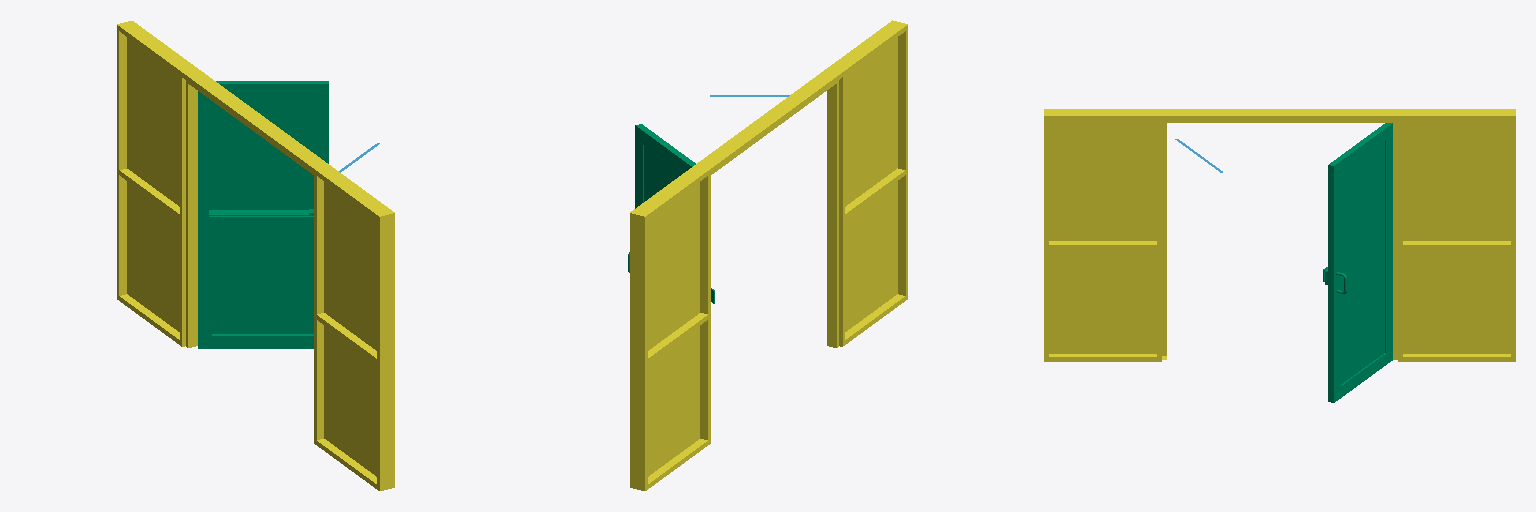
URDF robot description (partnet_6e9b896e1f9538e52b383b03c7efa7a):
<?xml version="1.0" ?>
<robot name="partnet_6e9b896e1f9538e52b383b03c7efa7a">
	<link name="base"/>
	<link name="link_0">
		<!-- <visual name="fixed_part-44">
			<origin xyz="-0.3955696449788885 -0.49927400000000066 -0.09266094707364786"/>
			<geometry>
				<mesh filename="textured_objs/original-1.obj"/>
			</geometry>
		</visual> -->
		<!-- <visual name="glass-50">
			<origin xyz="-0.3955696449788885 -0.49927400000000066 -0.09266094707364786"/>
			<geometry>
				<mesh filename="textured_objs/original-12.obj"/>
			</geometry>
		</visual> -->
		<!-- <visual name="surface_board-53">
			<origin xyz="-0.3955696449788885 -0.49927400000000066 -0.09266094707364786"/>
			<geometry>
				<mesh filename="textured_objs/original-14.obj"/>
			</geometry>
		</visual> -->
		<!-- <visual name="surface_board-53">
			<origin xyz="-0.3955696449788885 -0.49927400000000066 -0.09266094707364786"/>
			<geometry>
				<mesh filename="textured_objs/new-10.obj"/>
			</geometry>
		</visual> -->
		<!-- <visual name="surface_board-53">
			<origin xyz="-0.3955696449788885 -0.49927400000000066 -0.09266094707364786"/>
			<geometry>
				<mesh filename="textured_objs/original-15.obj"/>
			</geometry>
		</visual> -->
		<visual name="surface_board-53">
			<origin xyz="-0.3955696449788885 -0.49927400000000066 -0.09266094707364786"/>
			<geometry>
				<mesh filename="textured_objs/original-13.obj"/>
			</geometry>
		</visual>
		<!-- <visual name="surface_board-53">
			<origin xyz="-0.3955696449788885 -0.49927400000000066 -0.09266094707364786"/>
			<geometry>
				<mesh filename="textured_objs/original-6.obj"/>
			</geometry>
		</visual> -->
		<!-- <visual name="surface_board-53">
			<origin xyz="-0.3955696449788885 -0.49927400000000066 -0.09266094707364786"/>
			<geometry>
				<mesh filename="textured_objs/original-11.obj"/>
			</geometry>
		</visual> -->
		<!-- <visual name="horizontal_bar-56">
			<origin xyz="-0.3955696449788885 -0.49927400000000066 -0.09266094707364786"/>
			<geometry>
				<mesh filename="textured_objs/original-33.obj"/>
			</geometry>
		</visual> -->
		<!-- <visual name="horizontal_bar-56">
			<origin xyz="-0.3955696449788885 -0.49927400000000066 -0.09266094707364786"/>
			<geometry>
				<mesh filename="textured_objs/original-34.obj"/>
			</geometry>
		</visual> -->
		<!-- <visual name="horizontal_bar-56">
			<origin xyz="-0.3955696449788885 -0.49927400000000066 -0.09266094707364786"/>
			<geometry>
				<mesh filename="textured_objs/original-36.obj"/>
			</geometry>
		</visual> -->
		<!-- <collision>
			<origin xyz="-0.3955696449788885 -0.49927400000000066 -0.09266094707364786"/>
			<geometry>
				<mesh filename="textured_objs/original-1.obj"/>
			</geometry>
		</collision> -->
		<!-- <collision>
			<origin xyz="-0.3955696449788885 -0.49927400000000066 -0.09266094707364786"/>
			<geometry>
				<mesh filename="textured_objs/original-12.obj"/>
			</geometry>
		</collision> -->
		<!-- <collision>
			<origin xyz="-0.3955696449788885 -0.49927400000000066 -0.09266094707364786"/>
			<geometry>
				<mesh filename="textured_objs/original-14.obj"/>
			</geometry>
		</collision> -->
		<!-- <collision>
			<origin xyz="-0.3955696449788885 -0.49927400000000066 -0.09266094707364786"/>
			<geometry>
				<mesh filename="textured_objs/new-10.obj"/>
			</geometry>
		</collision> -->
		<!-- <collision>
			<origin xyz="-0.3955696449788885 -0.49927400000000066 -0.09266094707364786"/>
			<geometry>
				<mesh filename="textured_objs/original-15.obj"/>
			</geometry>
		</collision> -->
		<collision>
			<origin xyz="-0.3955696449788885 -0.49927400000000066 -0.09266094707364786"/>
			<geometry>
				<mesh filename="textured_objs/original-13.obj"/>
			</geometry>
		</collision>
		<!-- <collision>
			<origin xyz="-0.3955696449788885 -0.49927400000000066 -0.09266094707364786"/>
			<geometry>
				<mesh filename="textured_objs/original-6.obj"/>
			</geometry>
		</collision> -->
		<!-- <collision>
			<origin xyz="-0.3955696449788885 -0.49927400000000066 -0.09266094707364786"/>
			<geometry>
				<mesh filename="textured_objs/original-11.obj"/>
			</geometry>
		</collision> -->
		<!-- <collision>
			<origin xyz="-0.3955696449788885 -0.49927400000000066 -0.09266094707364786"/>
			<geometry>
				<mesh filename="textured_objs/original-33.obj"/>
			</geometry>
		</collision> -->
		<!-- <collision>
			<origin xyz="-0.3955696449788885 -0.49927400000000066 -0.09266094707364786"/>
			<geometry>
				<mesh filename="textured_objs/original-34.obj"/>
			</geometry>
		</collision> -->
		<!-- <collision>
			<origin xyz="-0.3955696449788885 -0.49927400000000066 -0.09266094707364786"/>
			<geometry>
				<mesh filename="textured_objs/original-36.obj"/>
			</geometry>
		</collision> -->
	</link>
	<joint name="joint_0" type="fixed">
		<origin xyz="0.3955696449788885 0.49927400000000066 0.09266094707364786"/>
		<axis xyz="0 -1 0"/>
		<child link="link_0"/>
		<parent link="link_2"/>
		<limit lower="-1.0471975511965976" upper="0.5235987755982988"/>
	</joint>
	<link name="link_1">
		<visual name="fixed_part-47">
			<origin xyz="0.39470414551830907 -0.4992740000000002 -0.0850970987031715"/>
			<geometry>
				<mesh filename="textured_objs/original-2.obj"/>
			</geometry>
		</visual>
		<visual name="glass-51">
			<origin xyz="0.39470414551830907 -0.4992740000000002 -0.0850970987031715"/>
			<geometry>
				<mesh filename="textured_objs/original-9.obj"/>
			</geometry>
		</visual>
		<visual name="surface_board-52">
			<origin xyz="0.39470414551830907 -0.4992740000000002 -0.0850970987031715"/>
			<geometry>
				<mesh filename="textured_objs/original-5.obj"/>
			</geometry>
		</visual>
		<visual name="surface_board-52">
			<origin xyz="0.39470414551830907 -0.4992740000000002 -0.0850970987031715"/>
			<geometry>
				<mesh filename="textured_objs/original-18.obj"/>
			</geometry>
		</visual>
		<visual name="surface_board-52">
			<origin xyz="0.39470414551830907 -0.4992740000000002 -0.0850970987031715"/>
			<geometry>
				<mesh filename="textured_objs/original-7.obj"/>
			</geometry>
		</visual>
		<visual name="horizontal_bar-59">
			<origin xyz="0.39470414551830907 -0.4992740000000002 -0.0850970987031715"/>
			<geometry>
				<mesh filename="textured_objs/original-28.obj"/>
			</geometry>
		</visual>
		<visual name="horizontal_bar-59">
			<origin xyz="0.39470414551830907 -0.4992740000000002 -0.0850970987031715"/>
			<geometry>
				<mesh filename="textured_objs/original-31.obj"/>
			</geometry>
		</visual>
		<collision>
			<origin xyz="0.39470414551830907 -0.4992740000000002 -0.0850970987031715"/>
			<geometry>
				<mesh filename="textured_objs/original-2-part-0.obj"/>
			</geometry>
		</collision>
		<collision>
			<origin xyz="0.39470414551830907 -0.4992740000000002 -0.0850970987031715"/>
			<geometry>
				<mesh filename="textured_objs/original-2-part-1.obj"/>
			</geometry>
		</collision>
		<collision>
			<origin xyz="0.39470414551830907 -0.4992740000000002 -0.0850970987031715"/>
			<geometry>
				<mesh filename="textured_objs/original-2-part-2.obj"/>
			</geometry>
		</collision>
		<collision>
			<origin xyz="0.39470414551830907 -0.4992740000000002 -0.0850970987031715"/>
			<geometry>
				<mesh filename="textured_objs/original-2-part-3.obj"/>
			</geometry>
		</collision>
		<collision>
			<origin xyz="0.39470414551830907 -0.4992740000000002 -0.0850970987031715"/>
			<geometry>
				<mesh filename="textured_objs/original-9.obj"/>
			</geometry>
		</collision>
		<collision>
			<origin xyz="0.39470414551830907 -0.4992740000000002 -0.0850970987031715"/>
			<geometry>
				<mesh filename="textured_objs/original-5.obj"/>
			</geometry>
		</collision>
		<collision>
			<origin xyz="0.39470414551830907 -0.4992740000000002 -0.0850970987031715"/>
			<geometry>
				<mesh filename="textured_objs/original-18.obj"/>
			</geometry>
		</collision>
		<collision>
			<origin xyz="0.39470414551830907 -0.4992740000000002 -0.0850970987031715"/>
			<geometry>
				<mesh filename="textured_objs/original-7.obj"/>
			</geometry>
		</collision>
		<collision>
			<origin xyz="0.39470414551830907 -0.4992740000000002 -0.0850970987031715"/>
			<geometry>
				<mesh filename="textured_objs/original-28.obj"/>
			</geometry>
		</collision>
		<collision>
			<origin xyz="0.39470414551830907 -0.4992740000000002 -0.0850970987031715"/>
			<geometry>
				<mesh filename="textured_objs/original-31.obj"/>
			</geometry>
		</collision>
	</link>
	<joint name="joint_1" type="revolute">
		<origin xyz="-0.39470414551830907 0.4992740000000002 0.0850970987031715"/>
		<axis xyz="0 1 0"/>
		<child link="link_1"/>
		<parent link="link_2"/>
		<limit lower="-1.0471975511965976" upper="0.5235987755982988"/>
	</joint>
	<link name="link_2">
		<visual name="glass-54">
			<origin xyz="0 0 0"/>
			<geometry>
				<mesh filename="textured_objs/original-25.obj"/>
			</geometry>
		</visual>
		<visual name="glass-55">
			<origin xyz="0 0 0"/>
			<geometry>
				<mesh filename="textured_objs/original-26.obj"/>
			</geometry>
		</visual>
		<visual name="outside_frame-40">
			<origin xyz="0 0 0"/>
			<geometry>
				<mesh filename="textured_objs/new-11.obj"/>
			</geometry>
		</visual>
		<visual name="outside_frame-40">
			<origin xyz="0 0 0"/>
			<geometry>
				<mesh filename="textured_objs/new-5.obj"/>
			</geometry>
		</visual>
		<visual name="outside_frame-40">
			<origin xyz="0 0 0"/>
			<geometry>
				<mesh filename="textured_objs/new-9.obj"/>
			</geometry>
		</visual>
		<visual name="outside_frame-40">
			<origin xyz="0 0 0"/>
			<geometry>
				<mesh filename="textured_objs/new-3.obj"/>
			</geometry>
		</visual>
		<visual name="horizontal_bar-57">
			<origin xyz="0 0 0"/>
			<geometry>
				<mesh filename="textured_objs/new-2.obj"/>
			</geometry>
		</visual>
		<visual name="horizontal_bar-57">
			<origin xyz="0 0 0"/>
			<geometry>
				<mesh filename="textured_objs/new-0.obj"/>
			</geometry>
		</visual>
		<visual name="horizontal_bar-58">
			<origin xyz="0 0 0"/>
			<geometry>
				<mesh filename="textured_objs/new-4.obj"/>
			</geometry>
		</visual>
		<visual name="horizontal_bar-58">
			<origin xyz="0 0 0"/>
			<geometry>
				<mesh filename="textured_objs/new-6.obj"/>
			</geometry>
		</visual>
		<visual name="horizontal_bar-58">
			<origin xyz="0 0 0"/>
			<geometry>
				<mesh filename="textured_objs/new-8.obj"/>
			</geometry>
		</visual>
		<collision>
			<origin xyz="0 0 0"/>
			<geometry>
				<mesh filename="textured_objs/original-25.obj"/>
			</geometry>
		</collision>
		<collision>
			<origin xyz="0 0 0"/>
			<geometry>
				<mesh filename="textured_objs/original-26.obj"/>
			</geometry>
		</collision>
		<collision>
			<origin xyz="0 0 0"/>
			<geometry>
				<mesh filename="textured_objs/new-11-part-0.obj"/>
			</geometry>
		</collision>
		<collision>
			<origin xyz="0 0 0"/>
			<geometry>
				<mesh filename="textured_objs/new-11-part-1.obj"/>
			</geometry>
		</collision>
		<collision>
			<origin xyz="0 0 0"/>
			<geometry>
				<mesh filename="textured_objs/new-11-part-2.obj"/>
			</geometry>
		</collision>
		<collision>
			<origin xyz="0 0 0"/>
			<geometry>
				<mesh filename="textured_objs/new-11-part-3.obj"/>
			</geometry>
		</collision>
		<collision>
			<origin xyz="0 0 0"/>
			<geometry>
				<mesh filename="textured_objs/new-11-part-4.obj"/>
			</geometry>
		</collision>
		<collision>
			<origin xyz="0 0 0"/>
			<geometry>
				<mesh filename="textured_objs/new-11-part-5.obj"/>
			</geometry>
		</collision>
		<collision>
			<origin xyz="0 0 0"/>
			<geometry>
				<mesh filename="textured_objs/new-11-part-6.obj"/>
			</geometry>
		</collision>
		<collision>
			<origin xyz="0 0 0"/>
			<geometry>
				<mesh filename="textured_objs/new-11-part-7.obj"/>
			</geometry>
		</collision>
		<collision>
			<origin xyz="0 0 0"/>
			<geometry>
				<mesh filename="textured_objs/new-11-part-8.obj"/>
			</geometry>
		</collision>
		<collision>
			<origin xyz="0 0 0"/>
			<geometry>
				<mesh filename="textured_objs/new-11-part-9.obj"/>
			</geometry>
		</collision>
		<collision>
			<origin xyz="0 0 0"/>
			<geometry>
				<mesh filename="textured_objs/new-11-part-10.obj"/>
			</geometry>
		</collision>
		<collision>
			<origin xyz="0 0 0"/>
			<geometry>
				<mesh filename="textured_objs/new-11-part-11.obj"/>
			</geometry>
		</collision>
		<collision>
			<origin xyz="0 0 0"/>
			<geometry>
				<mesh filename="textured_objs/new-5.obj"/>
			</geometry>
		</collision>
		<collision>
			<origin xyz="0 0 0"/>
			<geometry>
				<mesh filename="textured_objs/new-9.obj"/>
			</geometry>
		</collision>
		<collision>
			<origin xyz="0 0 0"/>
			<geometry>
				<mesh filename="textured_objs/new-3.obj"/>
			</geometry>
		</collision>
		<collision>
			<origin xyz="0 0 0"/>
			<geometry>
				<mesh filename="textured_objs/new-2.obj"/>
			</geometry>
		</collision>
		<collision>
			<origin xyz="0 0 0"/>
			<geometry>
				<mesh filename="textured_objs/new-0.obj"/>
			</geometry>
		</collision>
		<collision>
			<origin xyz="0 0 0"/>
			<geometry>
				<mesh filename="textured_objs/new-4.obj"/>
			</geometry>
		</collision>
		<collision>
			<origin xyz="0 0 0"/>
			<geometry>
				<mesh filename="textured_objs/new-6.obj"/>
			</geometry>
		</collision>
		<collision>
			<origin xyz="0 0 0"/>
			<geometry>
				<mesh filename="textured_objs/new-8.obj"/>
			</geometry>
		</collision>
	</link>
	<joint name="joint_2" type="fixed">
		<origin rpy="1.570796326794897 0 -1.570796326794897" xyz="0 0 0"/>
		<child link="link_2"/>
		<parent link="base"/>
	</joint>
</robot>

--- What the picture shows (computed from the rendered views, not written in the file) ---
The picture shows the robot from 3 angles, left to right: view 1: azimuth 30°, elevation 25°; view 2: azimuth 150°, elevation 25°; view 3: azimuth 270°, elevation 25°; orthographic projection.
Model partnet_6e9b896e1f9538e52b383b03c7efa7a with 4 links and 3 joints (1 revolute, 2 fixed), rooted at base, posed all joints at 0.
Links seen in each view (by area): view 1: link_2, link_1; view 2: link_2, link_1; view 3: link_2, link_1.
Boxes of the visible links, x1=… form: link_2: x1=117, y1=21, x2=394, y2=490; link_1: x1=198, y1=81, x2=328, y2=348; link_2: x1=630, y1=20, x2=907, y2=490; link_1: x1=628, y1=124, x2=714, y2=303; link_2: x1=1044, y1=109, x2=1515, y2=361; link_1: x1=1323, y1=123, x2=1392, y2=402.
Bounding box of the posed robot: 0.4264 × 1.73 × 0.9983 m (x, y, z).
19 mesh visuals loaded from 19 distinct referenced files (19 OBJ).
